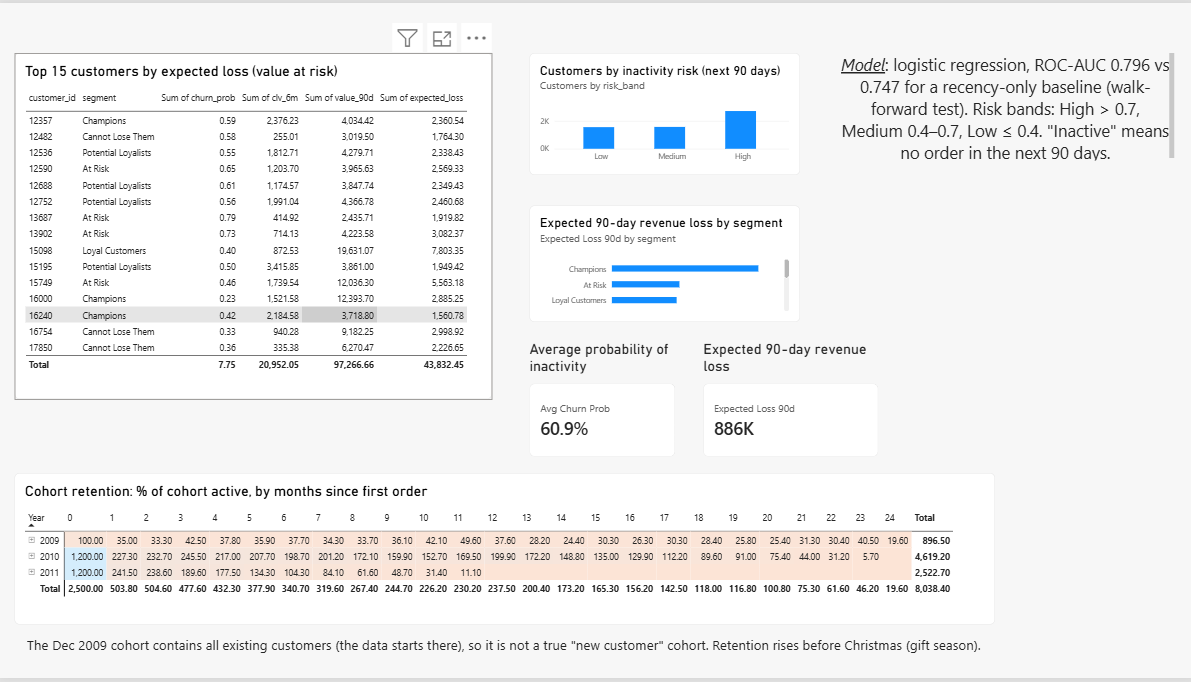

This screenshot's page, from the dashboard's own definition file:
{"tool":"powerbi","page":{"name":"Churn & Retention","canvas":[1920,1080],"ordinal":2},"visuals":[{"type":"columnChart","title":"Customers by inactivity risk (next 90 days)","fields":{"Category":["customer_360.risk_band"],"Y":["_Measuress.Customers"]},"box":[852.4,79.6,432.5,195.4],"z":0},{"type":"pivotTable","title":"Cohort retention: % of cohort active, by months since first order","fields":{"Columns":["cohort_retention_pct.month_index"],"Rows":["cohort_retention_pct.cohort_month.Variation.Date Hierarchy.Year","cohort_retention_pct.cohort_month.Variation.Date Hierarchy.Month"],"Values":["Sum(cohort_retention_pct.retention_pct)"]},"box":[29,751,1569,242.5],"z":1000},{"type":"tableEx","title":"Top 15 customers by expected loss (value at risk)","fields":{"Values":["customer_360.customer_id","customer_360.segment","Sum(customer_360.churn_prob)","Sum(customer_360.clv_6m)","Sum(customer_360.value_90d)","Sum(customer_360.expected_loss)"]},"box":[29,79.6,763.7,553.8],"z":1001},{"type":"cardVisual","title":"Average probability of inactivity","fields":{"Data":["_Measuress.Avg Churn Prob"]},"box":[852.4,539.3,233.4,186.4],"z":1002},{"type":"cardVisual","title":"Expected 90-day revenue loss","fields":{"Data":["_Measuress.Expected Loss 90d"]},"box":[1129.2,539.3,280.5,186.4],"z":1003},{"type":"textbox","box":[397.8,0,453.8,160.2],"z":1004},{"type":"textbox","box":[1350,79.6,533.8,171.9],"z":1005},{"type":"barChart","title":"Expected 90-day revenue loss by segment","fields":{"Category":["segment_actions.segment"],"Y":["_Measuress.Expected Loss 90d"]},"box":[852.4,323.9,432.5,186.4],"z":1006},{"type":"textbox","box":[48.9,1011.6,1777.1,38],"z":1007}]}

Visuals, with their boxes in screenshot pixels (x1, y1, x2, y2), scaled from the page's 1920x1080 canvas onto the 1191x682 screenshot:
"Customers by inactivity risk (next 90 days)" columnChart: [529,50,797,174]
"Cohort retention: % of cohort active, by months since first order" pivotTable: [18,474,991,627]
"Top 15 customers by expected loss (value at risk)" tableEx: [18,50,492,400]
"Average probability of inactivity" cardVisual: [529,341,674,458]
"Expected 90-day revenue loss" cardVisual: [700,341,874,458]
textbox: [247,0,528,101]
textbox: [837,50,1169,159]
"Expected 90-day revenue loss by segment" barChart: [529,205,797,322]
textbox: [30,639,1133,663]
